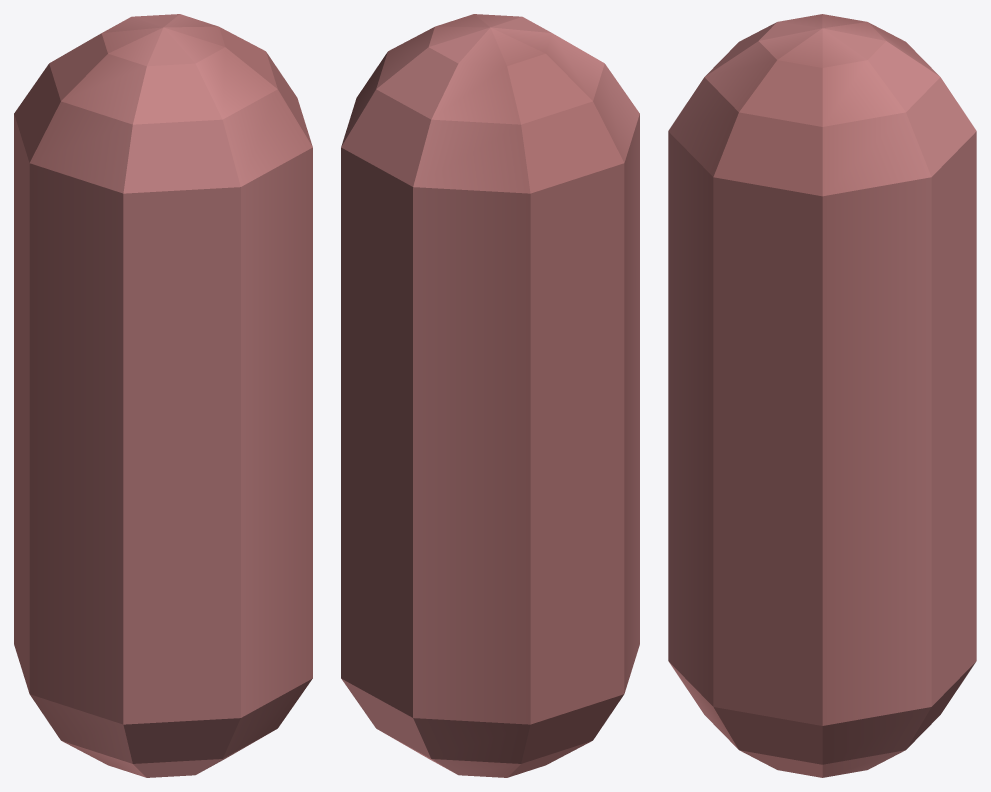
File: HerbertBaseVacuumTube.glb
3 views of the same model, side by side, from view 1: azimuth 30°, elevation 25°; view 2: azimuth 150°, elevation 25°; view 3: azimuth 270°, elevation 25° (orthographic).
Parts seen in each view (by area): view 1: HerbertBaseVacuumTube; view 2: HerbertBaseVacuumTube; view 3: HerbertBaseVacuumTube.
Part boxes in pixels (x1=…): HerbertBaseVacuumTube: x1=14, y1=14, x2=312, y2=777; HerbertBaseVacuumTube: x1=341, y1=14, x2=639, y2=777; HerbertBaseVacuumTube: x1=668, y1=14, x2=976, y2=777.
Bounding box in the file's own units: 0.5099 × 1.34 × 0.5099.
